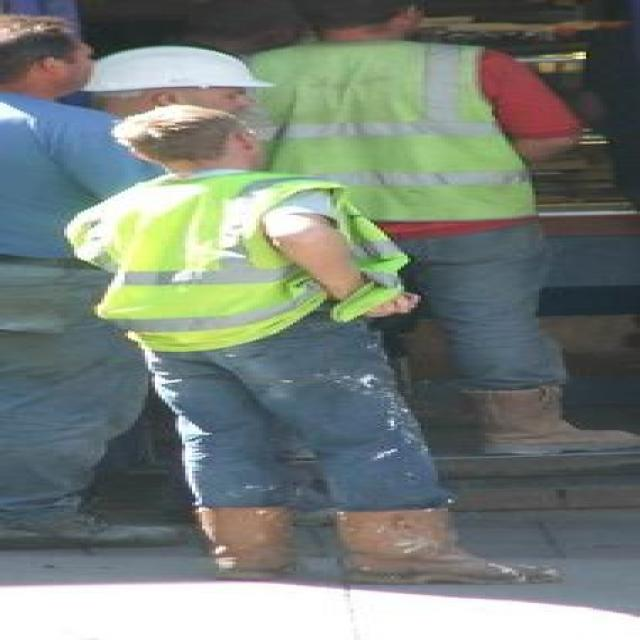Reflective-Jacket: (212, 39, 549, 246), (61, 170, 387, 355)
Safety-Helmet: (70, 42, 280, 99)
